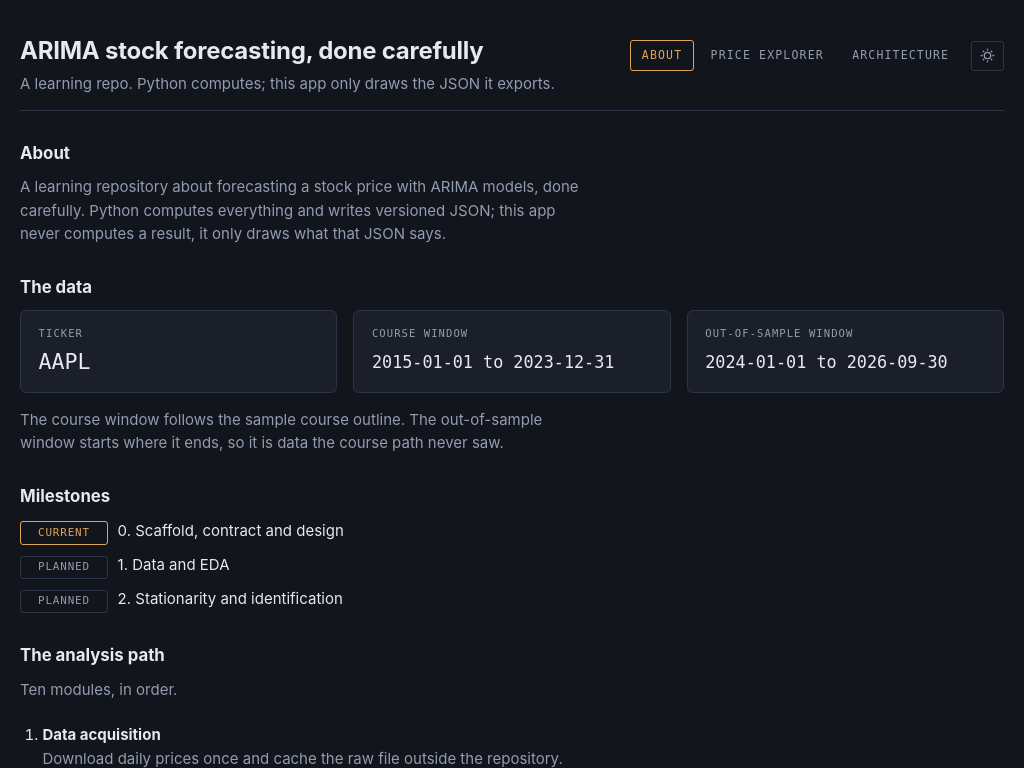
Scenario: App (integration) › offers the price explorer once meta lists prices and eda, and loads both only when it opens
The width and height of the screenshot is (1024, 768).
Expected: the text "AAPL" is shown, [39,348,91,374]
What coordinates should you click on to do the following:
click the link "Price explorer"
I would click on:
 (767, 55)
Its box is [711,48,824,62].
(page scrolled)
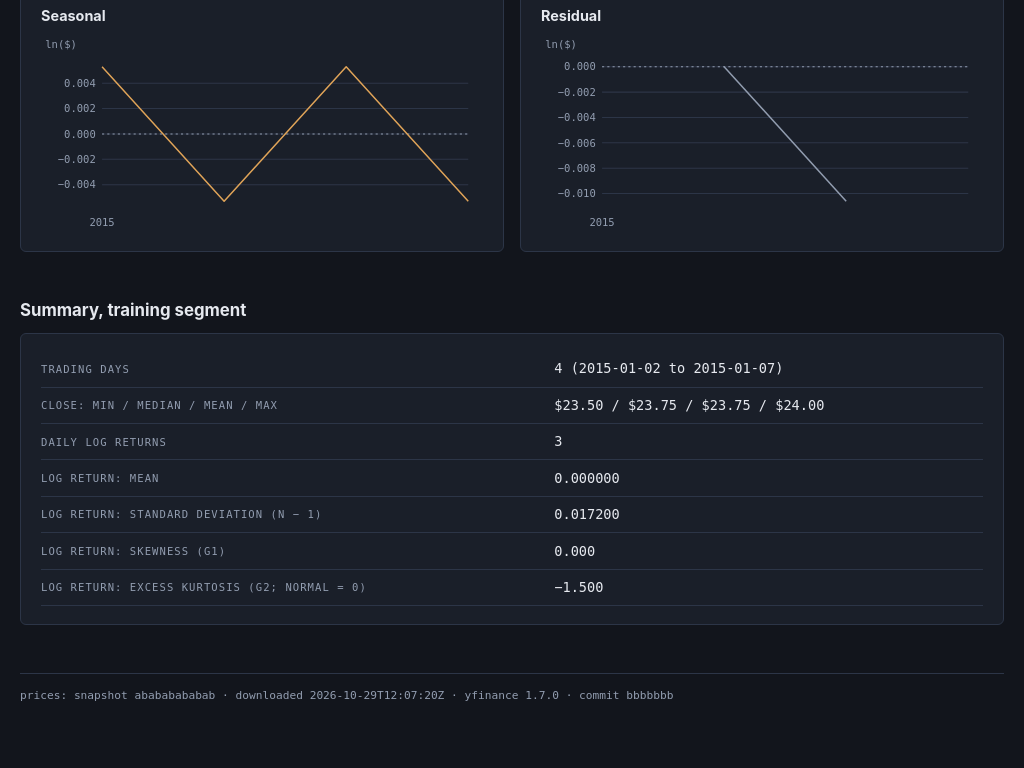
Expected: the table named "Training summary" is shown, [41,351,983,606]
